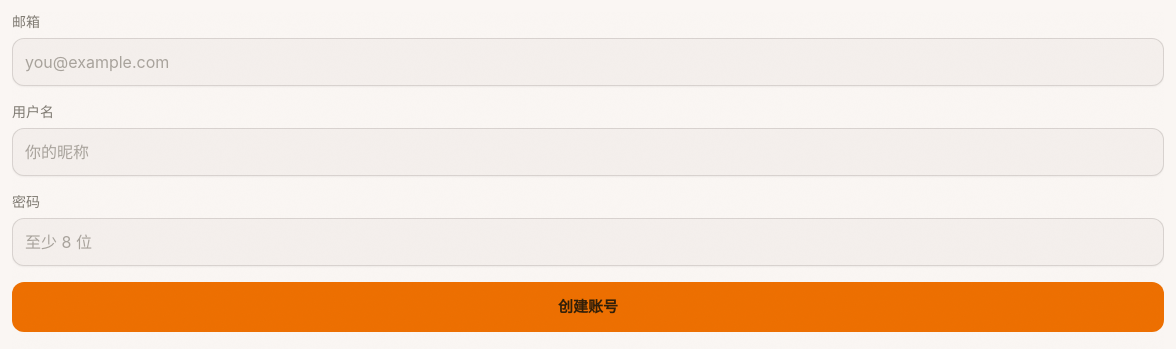
Scenario: RegisterForm › shows 注册中… while submitting (loading state)
Type "a@b.com" into the field labelled "邮箱".
click(588, 62); type("a@b.com")  # box left=12, top=38, right=1164, bottom=86
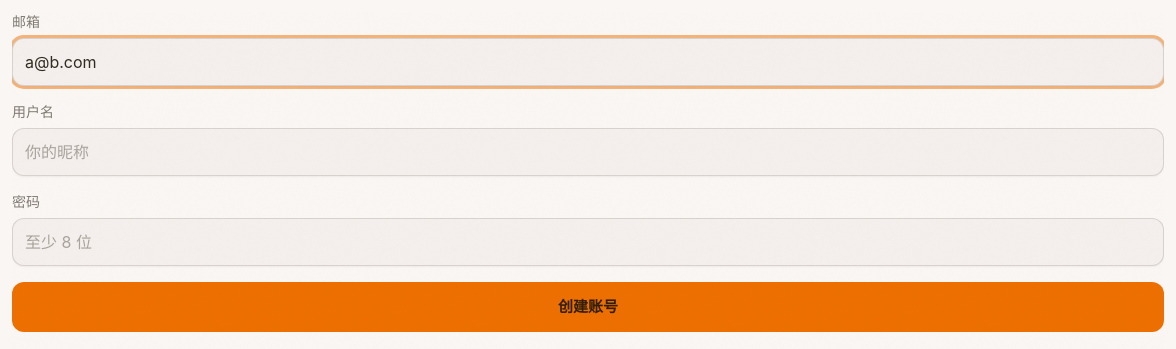
Type "testuser" into the field labelled "用户名".
click(588, 152); type("testuser")  # box left=12, top=128, right=1164, bottom=176
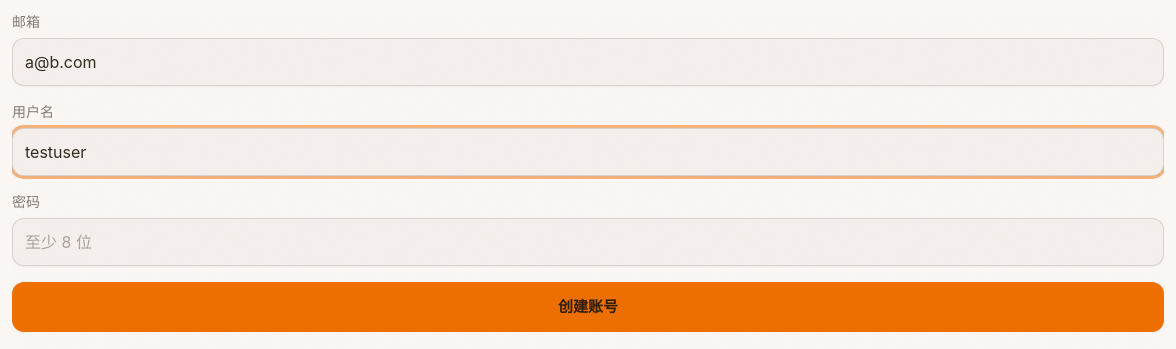
Type "password123" into the password field labelled "密码".
click(588, 242); type("password123")  # box left=12, top=218, right=1164, bottom=266
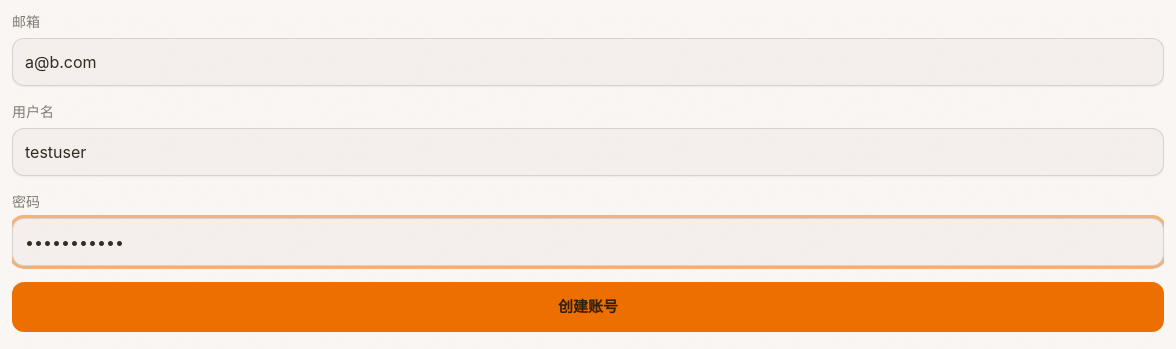
Click the button.
click(588, 307)  # box left=12, top=282, right=1164, bottom=332
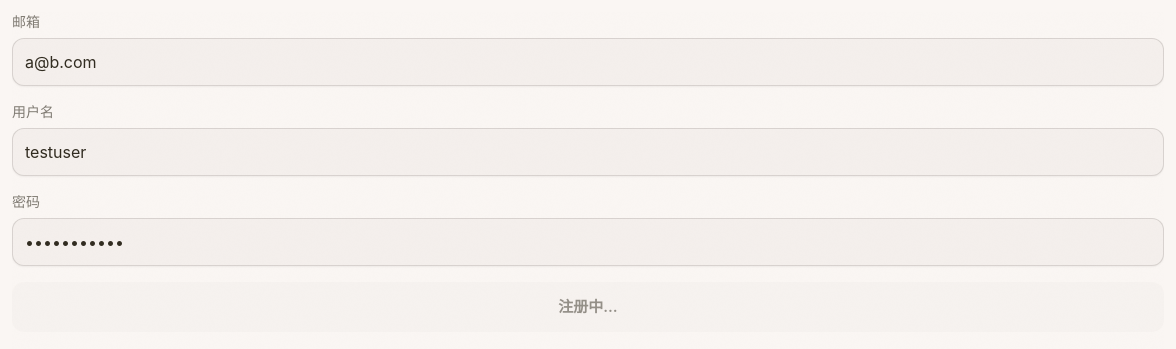
Expected: the button "注册中…" is disabled, left=12, top=282, right=1164, bottom=332
